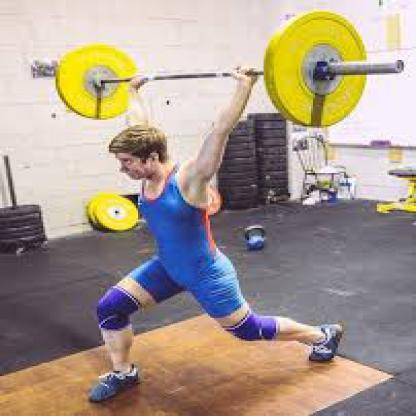barbell: (57, 10, 406, 128)
